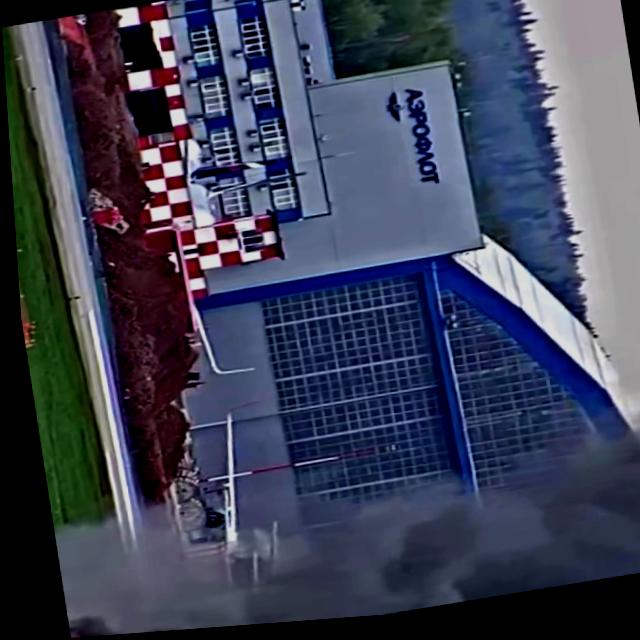smoke: (57, 380, 640, 638)
